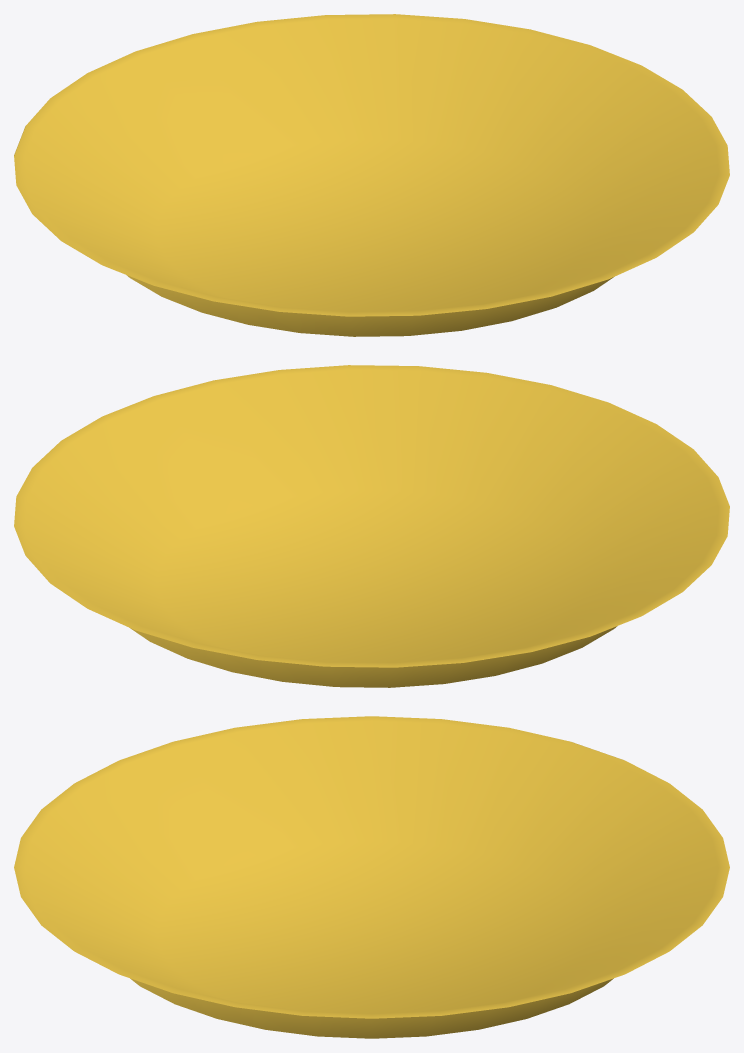
Rendered from KitchenPlate.001.fbx.
The picture shows the model from 3 angles, top to bottom: view 1: azimuth 30°, elevation 25°; view 2: azimuth 150°, elevation 25°; view 3: azimuth 270°, elevation 25°; orthographic projection.
Parts seen in each view (by area): view 1: KitchenPlate.001_Baked; view 2: KitchenPlate.001_Baked; view 3: KitchenPlate.001_Baked.
Boxes of the visible parts, x1,y1,x2,y2 form: KitchenPlate.001_Baked: (14, 14, 729, 336); KitchenPlate.001_Baked: (14, 365, 729, 687); KitchenPlate.001_Baked: (14, 716, 729, 1038).
Bounding box in the file's own units: 31.4 × 3.27 × 31.4.
1 material, 1 textured.
